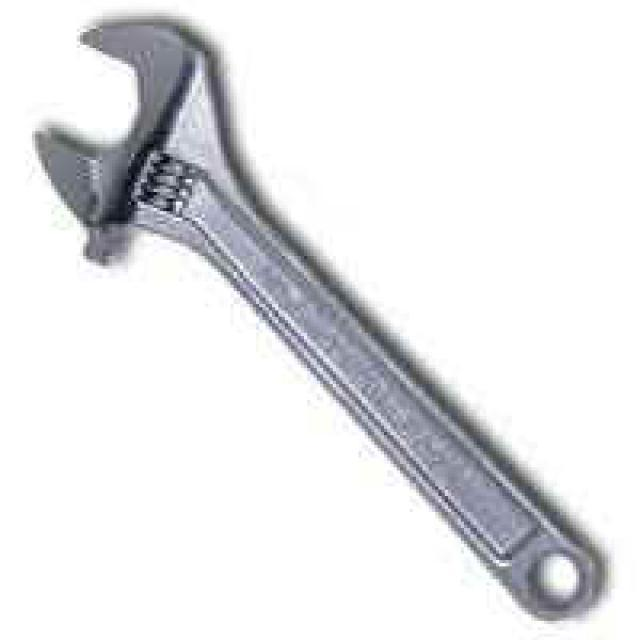wrench: (25, 9, 602, 628)
